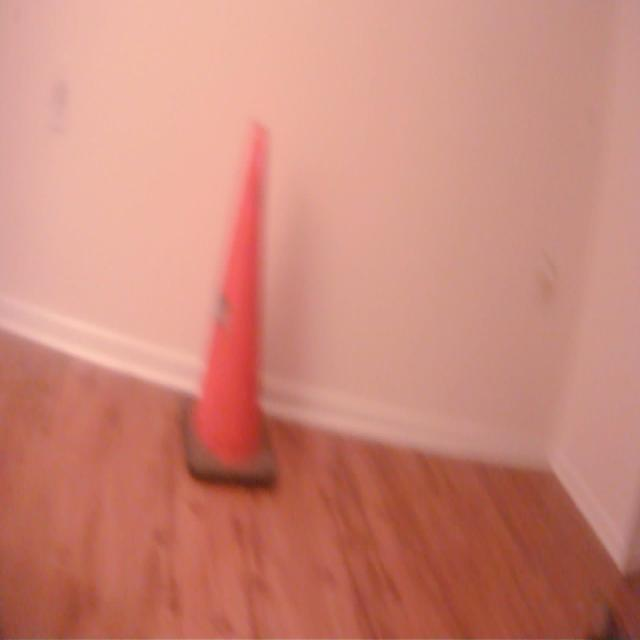traffic cone: (175, 116, 287, 499)
